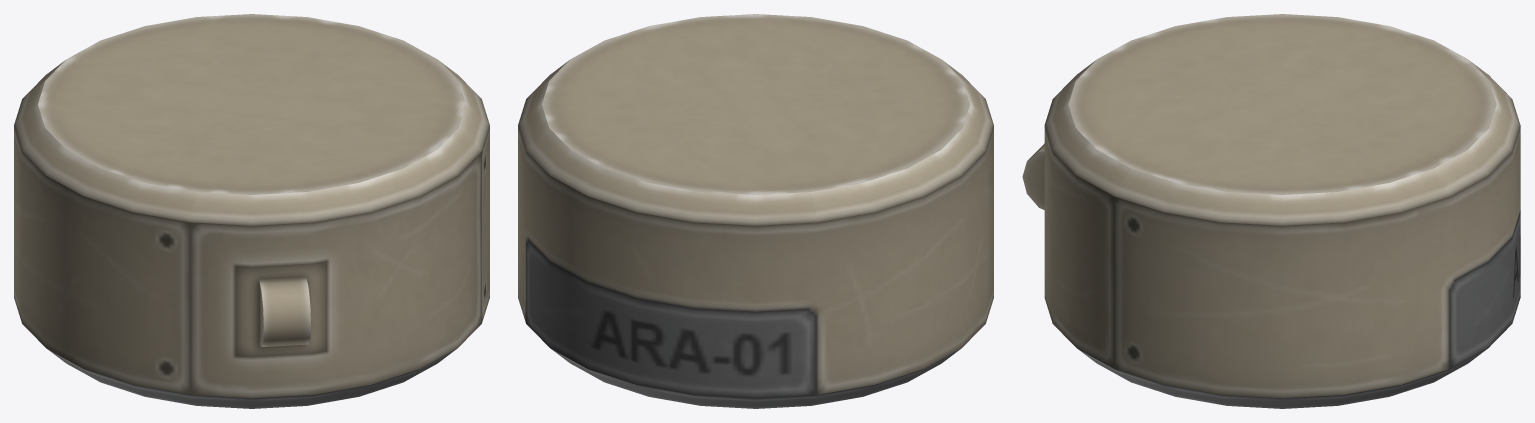
The model's file is Ara_Control_1.obj.
3 views of the same model, side by side, from view 1: azimuth 30°, elevation 25°; view 2: azimuth 150°, elevation 25°; view 3: azimuth 270°, elevation 25° (orthographic).
Parts seen in each view (by area): view 1: Ara_Control_1; view 2: Ara_Control_1; view 3: Ara_Control_1.
Part boxes in pixels (x1,y1,x2,y2): Ara_Control_1: [14, 14, 489, 408]; Ara_Control_1: [518, 14, 993, 408]; Ara_Control_1: [1022, 14, 1520, 408].
Size of the model in its own units: 0.625 by 0.31 by 0.654.
